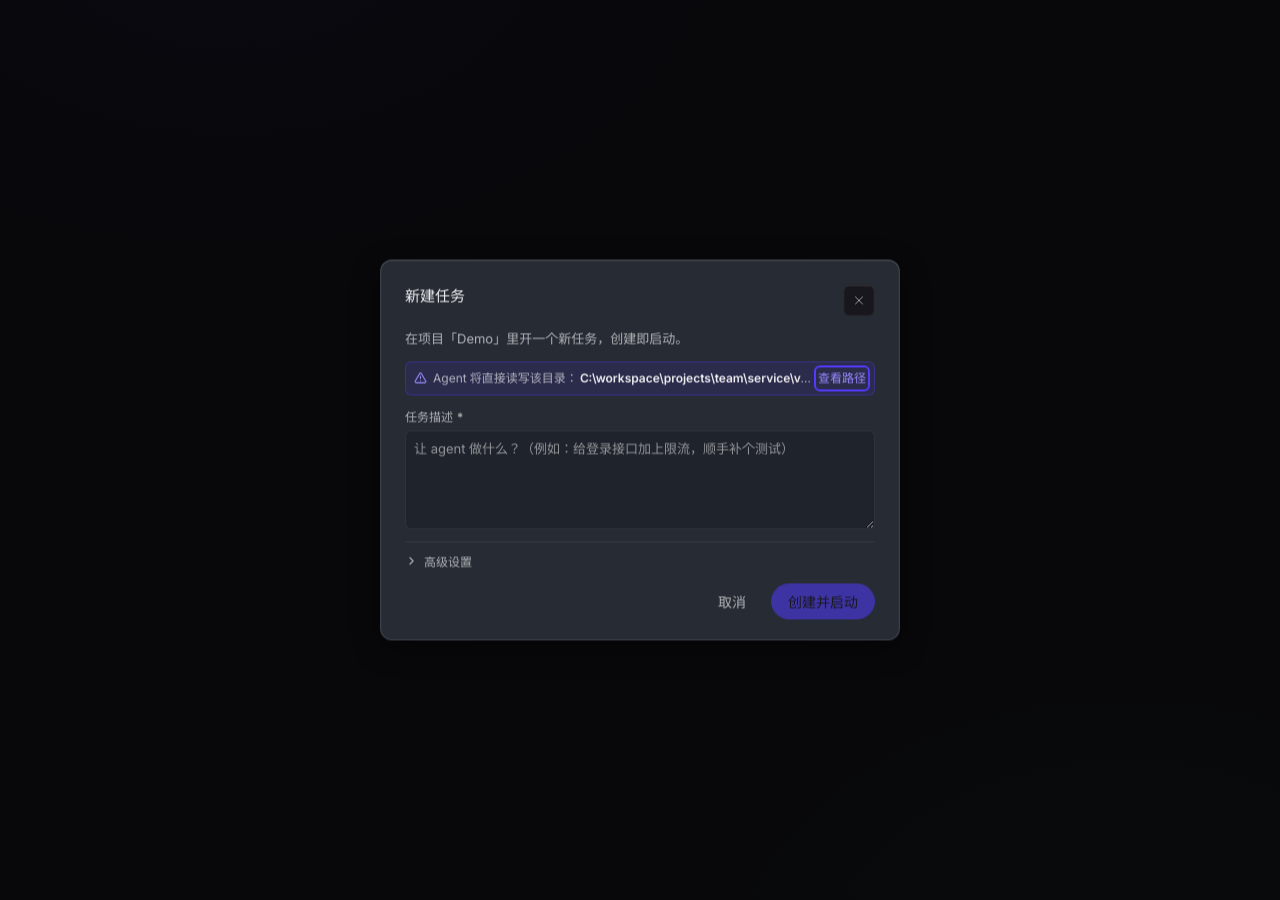
Test: TaskCreationDialog 化简（#1177 §B） › a long project path can be revealed with a keyboard-focusable control
Click the button "查看路径".
click(842, 378)  # box [818,369,866,387]
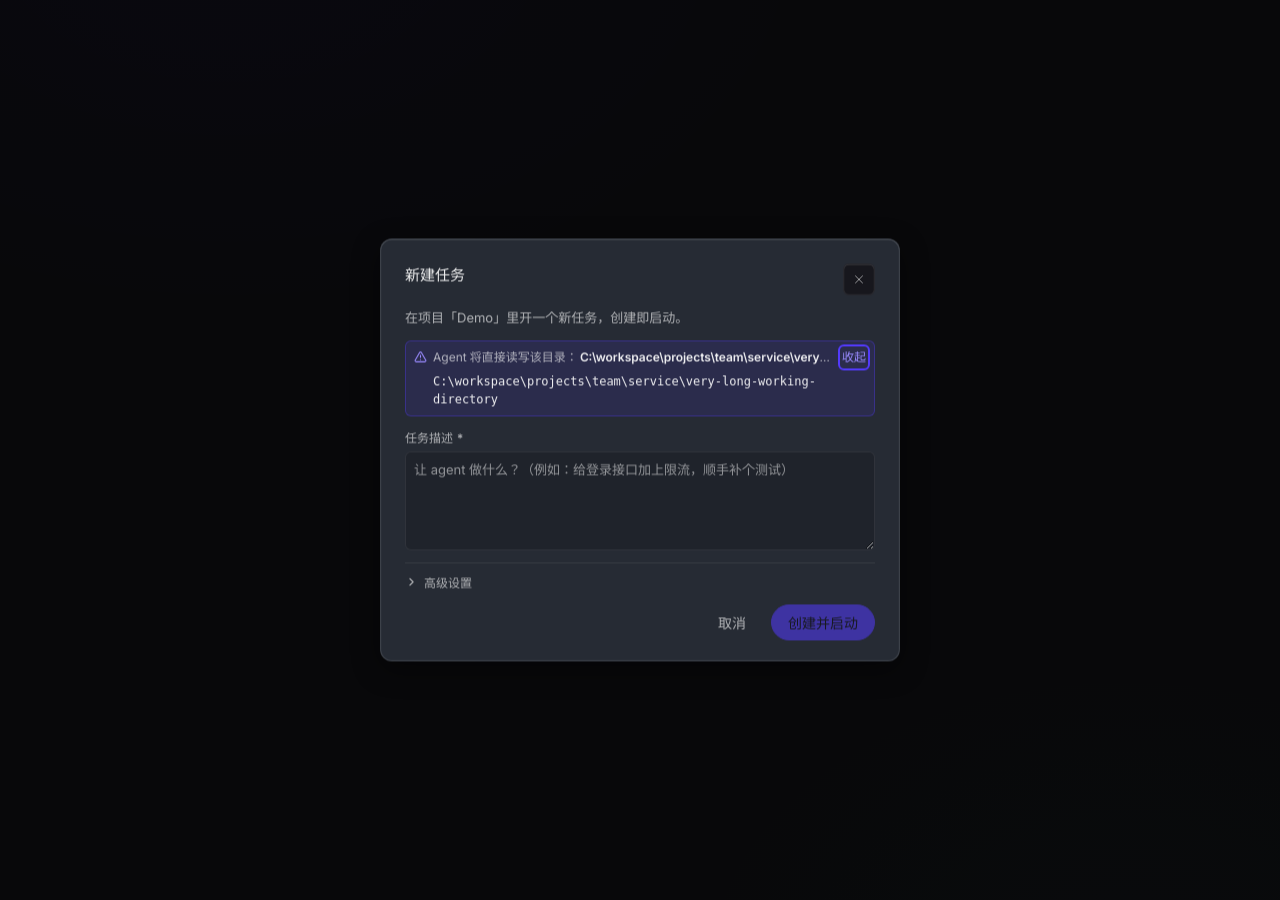
Now the button "收起" is expanded, box [842,348,866,366]
Now the text "C:\\workspace\\projects\\team\\service\\very-long-working-directory" is shown, box [433,372,866,408]
